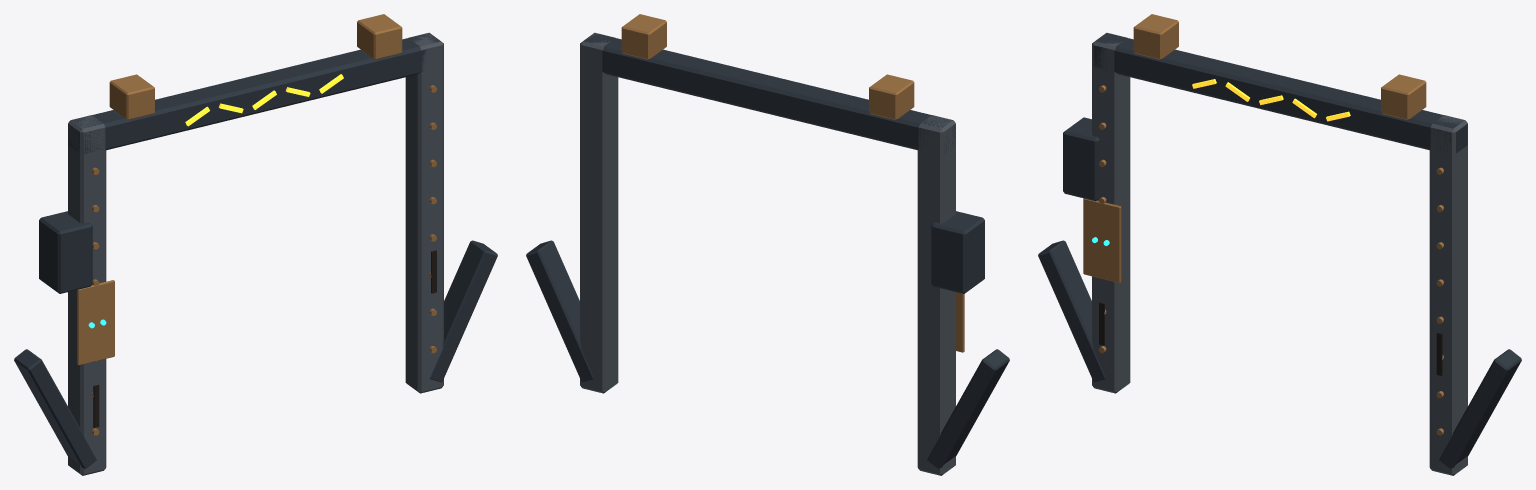
Rendered from runtime.glb.
The picture shows the model from 3 angles, left to right: view 1: azimuth 30°, elevation 25°; view 2: azimuth 150°, elevation 25°; view 3: azimuth 330°, elevation 25°; orthographic projection.
Parts seen in each view (by area): view 1: kinetic-tide-machine-frame-v09_steel_nocol, kinetic-tide-machine-frame-v09_plate_nocol, kinetic-tide-machine-frame-v09_bronze_nocol, kinetic-tide-machine-frame-v09_warningorange_nocol, kinetic-tide-machine-frame-v09_weardark_nocol; view 2: kinetic-tide-machine-frame-v09_plate_nocol, kinetic-tide-machine-frame-v09_steel_nocol, kinetic-tide-machine-frame-v09_bronze_nocol; view 3: kinetic-tide-machine-frame-v09_plate_nocol, kinetic-tide-machine-frame-v09_steel_nocol, kinetic-tide-machine-frame-v09_bronze_nocol, kinetic-tide-machine-frame-v09_warningorange_nocol, kinetic-tide-machine-frame-v09_weardark_nocol.
Part boxes in pixels (left/top/right/bottom): kinetic-tide-machine-frame-v09_steel_nocol: left=14, top=33, right=497, bottom=469; kinetic-tide-machine-frame-v09_plate_nocol: left=68, top=32, right=443, bottom=475; kinetic-tide-machine-frame-v09_bronze_nocol: left=77, top=14, right=436, bottom=435; kinetic-tide-machine-frame-v09_warningorange_nocol: left=185, top=74, right=343, bottom=126; kinetic-tide-machine-frame-v09_weardark_nocol: left=93, top=250, right=436, bottom=427; kinetic-tide-machine-frame-v09_plate_nocol: left=580, top=32, right=955, bottom=475; kinetic-tide-machine-frame-v09_steel_nocol: left=526, top=33, right=1009, bottom=469; kinetic-tide-machine-frame-v09_bronze_nocol: left=621, top=14, right=964, bottom=352; kinetic-tide-machine-frame-v09_plate_nocol: left=1092, top=32, right=1467, bottom=475; kinetic-tide-machine-frame-v09_steel_nocol: left=1038, top=33, right=1521, bottom=469; kinetic-tide-machine-frame-v09_bronze_nocol: left=1083, top=14, right=1443, bottom=435; kinetic-tide-machine-frame-v09_warningorange_nocol: left=1192, top=79, right=1350, bottom=121; kinetic-tide-machine-frame-v09_weardark_nocol: left=1099, top=302, right=1442, bottom=375.
Bounding box in the file's own units: 13.33 × 10.14 × 1.07.
